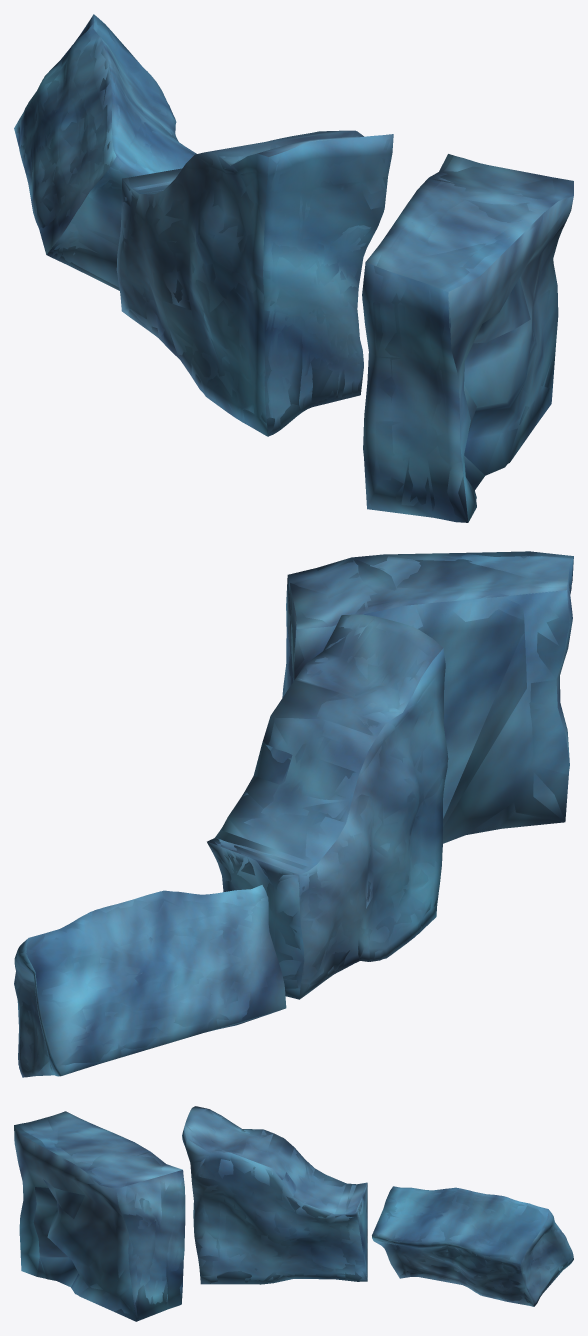
Rendered from new glacer_1_LOD.fbx.
3 renders of one model, top to bottom at view 1: azimuth 30°, elevation 25°; view 2: azimuth 150°, elevation 25°; view 3: azimuth 270°, elevation 25°, orthographic. The views are drawn at different scales.
Parts seen in each view (by area): view 1: Cube.004, Cube.001, Cube.002, Cube.003; view 2: Cube.004, Cube.001, Cube.003, Cube.002; view 3: Cube.004, Cube.001, Cube.002, Cube.003.
Boxes of the visible parts, left/top/right/bottom form: Cube.004: left=18, top=14, right=572, bottom=522; Cube.001: left=19, top=14, right=573, bottom=522; Cube.002: left=14, top=20, right=573, bottom=512; Cube.003: left=15, top=16, right=572, bottom=505; Cube.004: left=14, top=551, right=573, bottom=1077; Cube.001: left=14, top=554, right=572, bottom=1077; Cube.003: left=14, top=552, right=572, bottom=1076; Cube.002: left=15, top=556, right=572, bottom=1076; Cube.004: left=14, top=1106, right=573, bottom=1319; Cube.001: left=17, top=1106, right=573, bottom=1306; Cube.002: left=14, top=1109, right=572, bottom=1321; Cube.003: left=14, top=1108, right=569, bottom=1321.
Size of the model in its own units: 574 by 615 by 1851.
